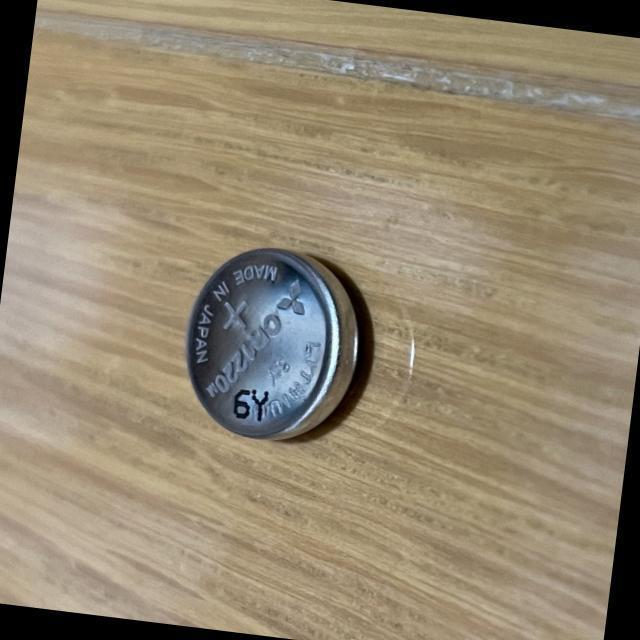COIN: (175, 236, 374, 448)
